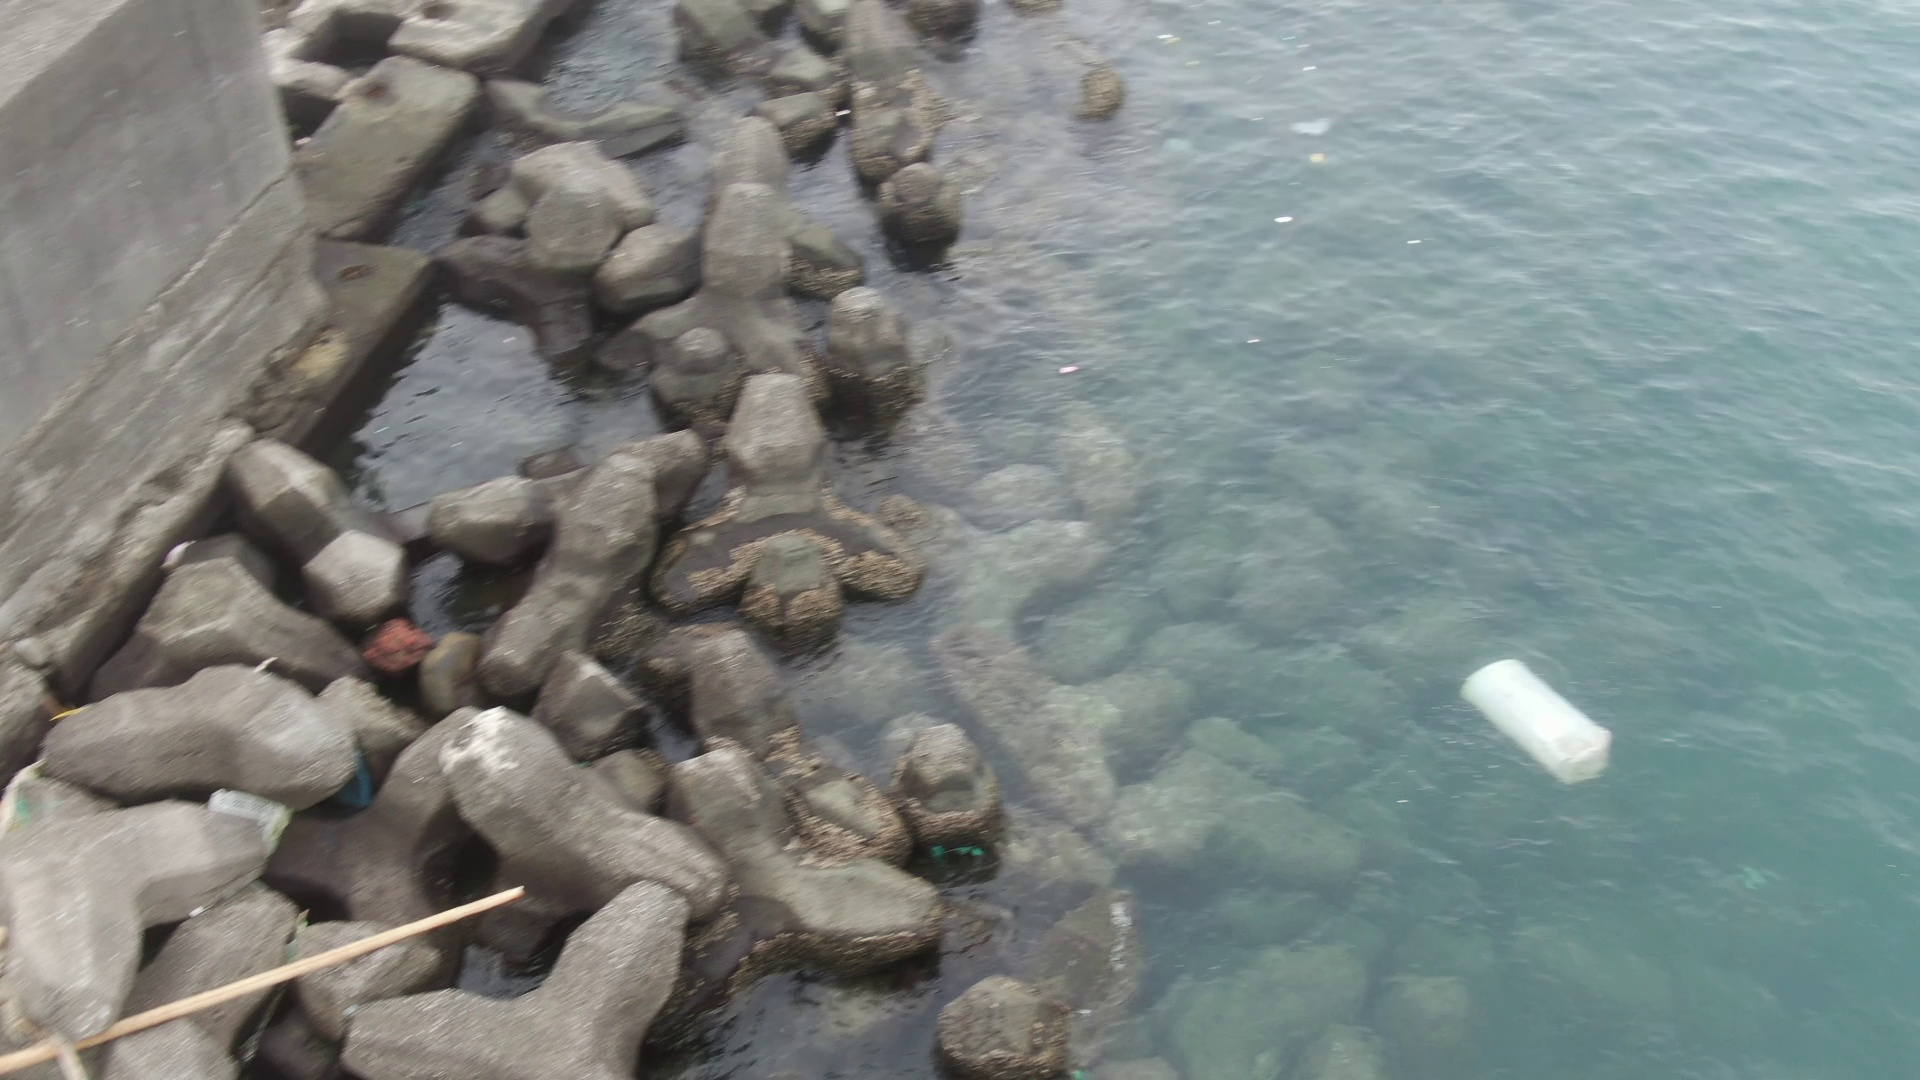garbage: (1457, 649, 1618, 790), (196, 793, 298, 851), (324, 731, 375, 808)
